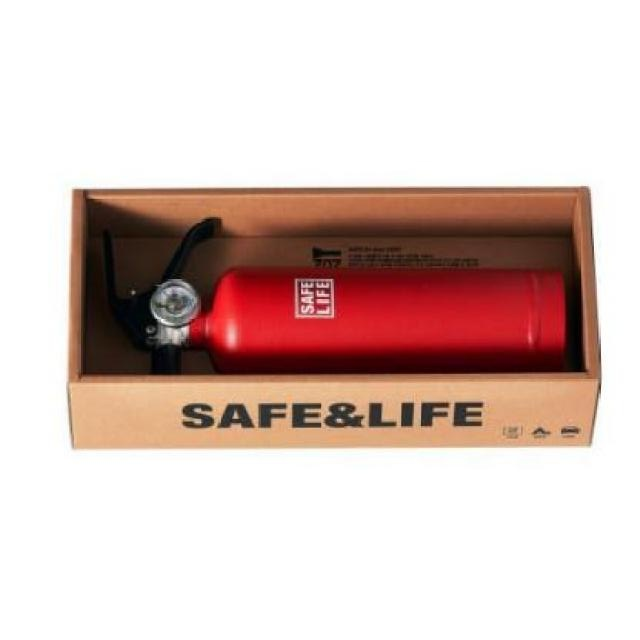fire extinguisher: (94, 216, 566, 378)
